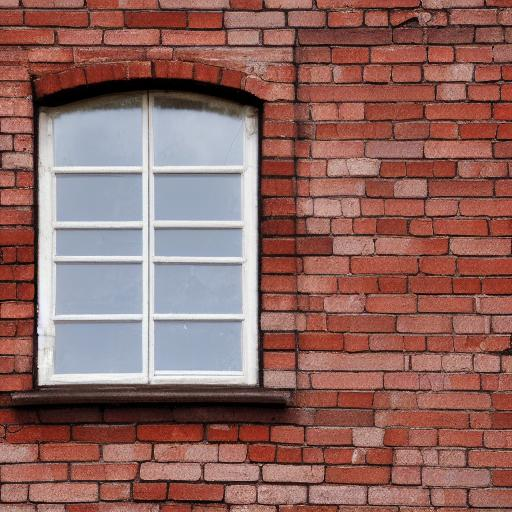Window: (14, 60, 295, 409)
